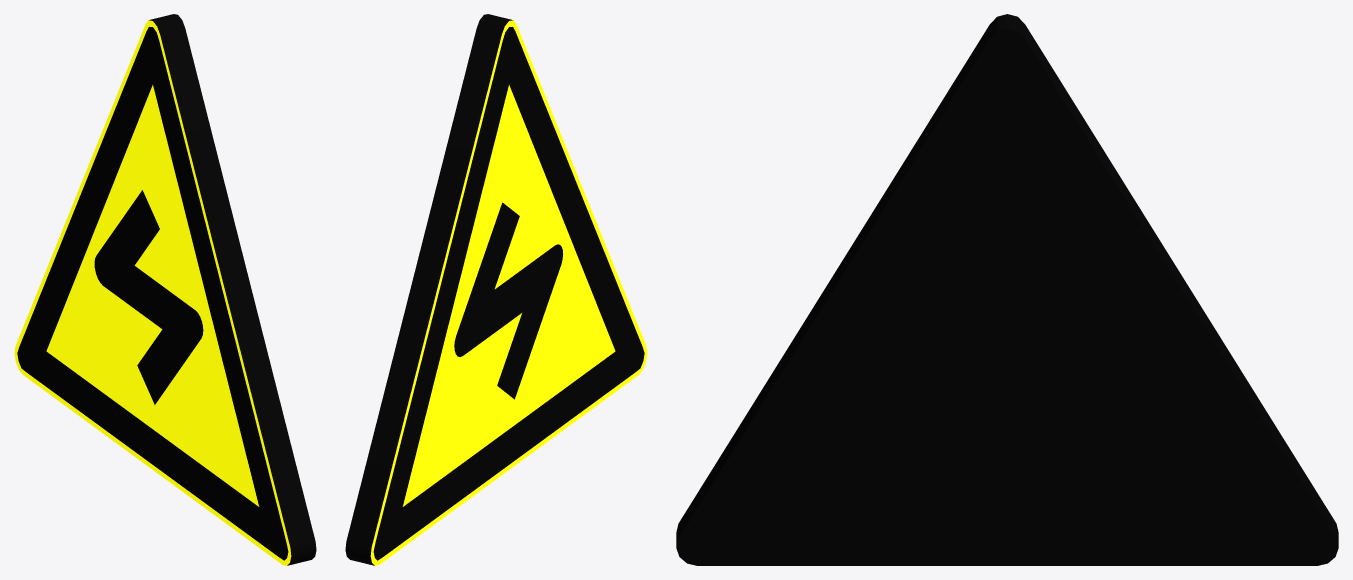
File: Reverse_Detour_Right.glb
The picture shows the model from 3 angles, left to right: view 1: azimuth 30°, elevation 25°; view 2: azimuth 150°, elevation 25°; view 3: azimuth 270°, elevation 25°; orthographic projection. The views are drawn at different scales.
Parts seen in each view (by area): view 1: Reverse_Detour_Right; view 2: Reverse_Detour_Right; view 3: Reverse_Detour_Right.
Boxes of the visible parts, <box> form: Reverse_Detour_Right: <box>14,14,316,565</box>; Reverse_Detour_Right: <box>345,14,647,565</box>; Reverse_Detour_Right: <box>676,14,1338,565</box>.
Bounding box in the file's own units: 0.0643 × 1.02 × 1.14.
